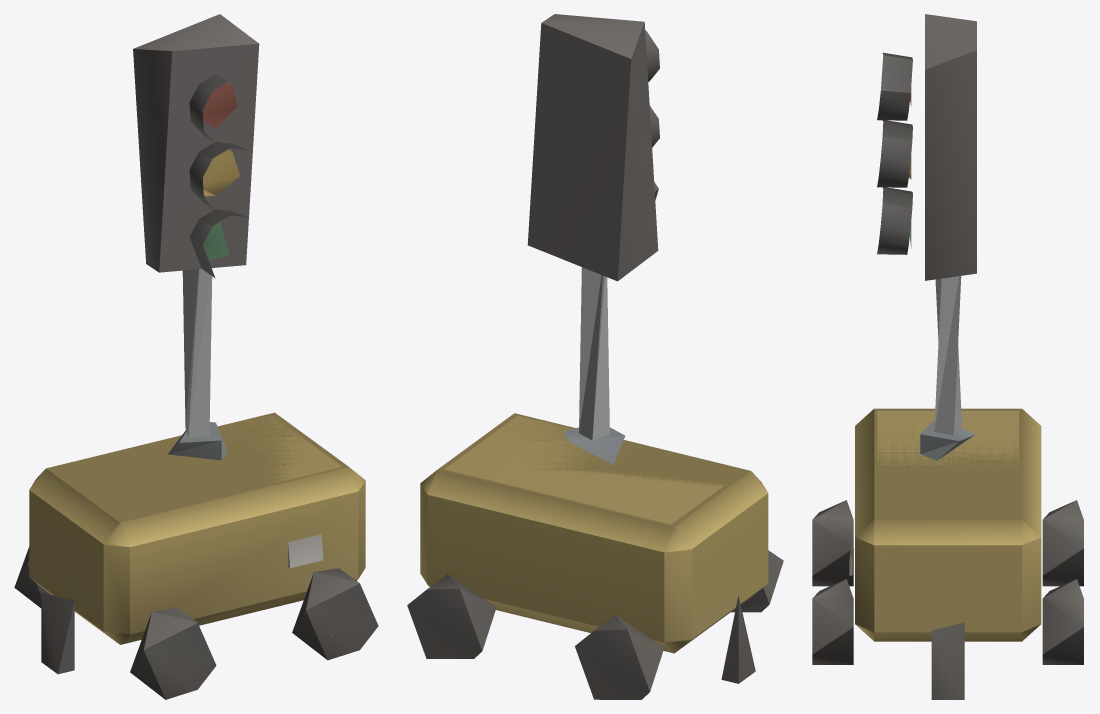
File: lights.lod1.glb
3 renders of one model, left to right at view 1: azimuth 30°, elevation 25°; view 2: azimuth 150°, elevation 25°; view 3: azimuth 270°, elevation 25°, orthographic. The views are drawn at different scales.
Bounding box in the file's own units: 1.24 × 2.4 × 0.996.
